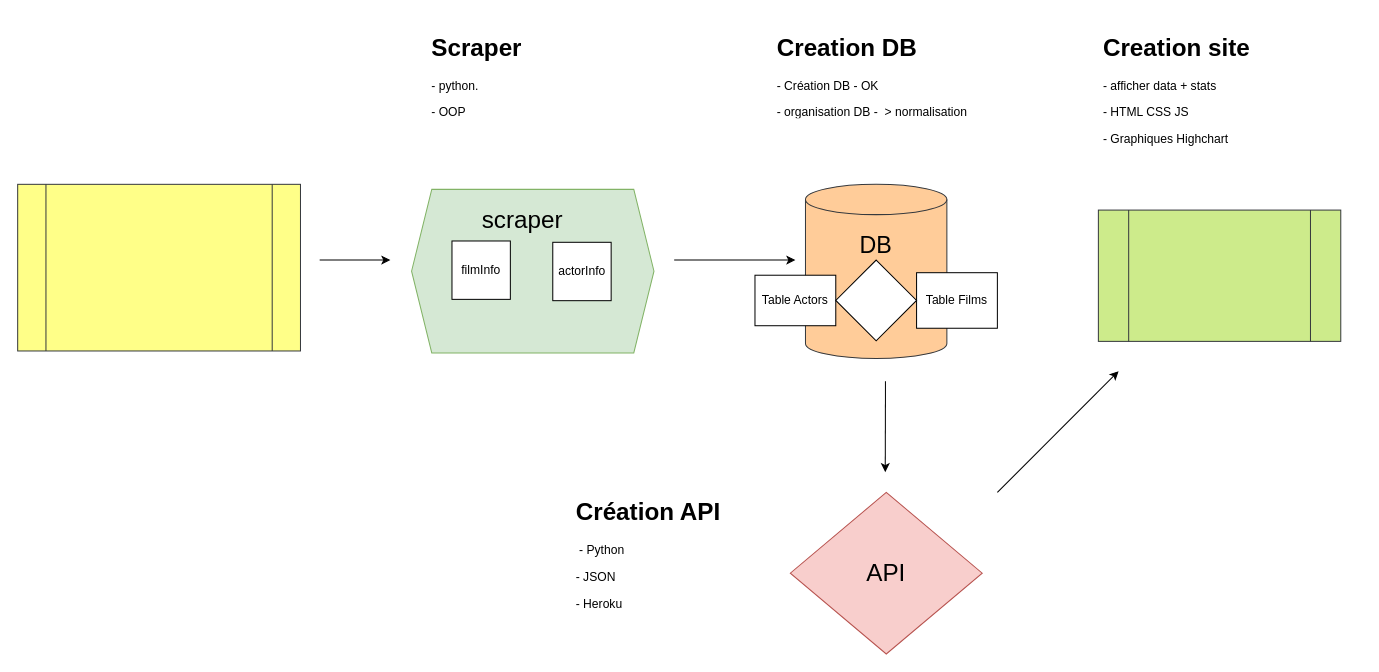
The diagram is 1379 pixels wide and 672 high, and some of its shapes have lost their labels. Each missing label, with the centre of its shape:
"Allociné" goes at point 158,267.
"Film_Actor" goes at point 876,300.
"Site data" goes at point 1219,275.
